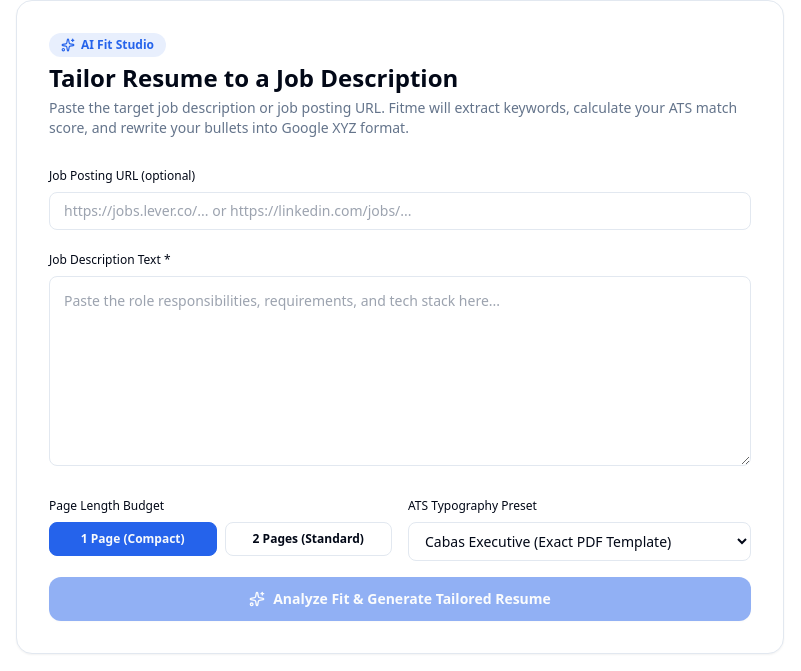
Scenario: Fit Studio UI: StudioClient › enables the submit button when job description is entered
Replace the text in the text box with placeholder "Paste the role responsibilities" with "Looking for a Senior TypeScript and Next.js Engineer to build distributed web applications.": (400,371) [49,276,751,466]
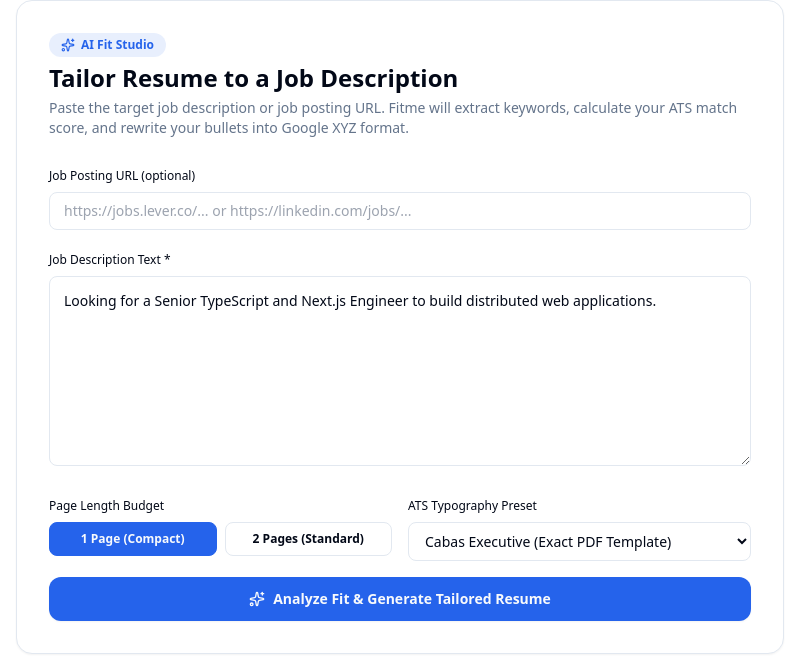
Expected: the button "Analyze Fit & Generate Tailored Resume" is enabled, [49,577,751,621]
